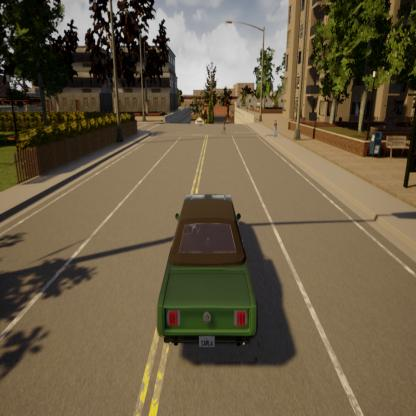Cars: (149, 169, 277, 389)
Pedestrian: (214, 106, 232, 147), (269, 109, 285, 149)
